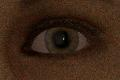eye: (46, 28, 78, 52)
